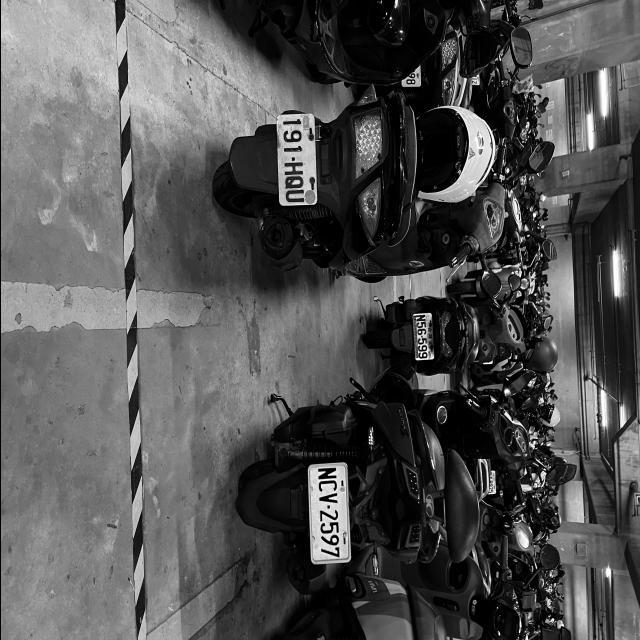-: (326, 504, 332, 510), (290, 156, 294, 163), (420, 336, 422, 338)
1: (282, 144, 302, 154), (282, 118, 300, 128)
2: (318, 510, 338, 522)
5: (318, 522, 338, 534), (415, 321, 425, 329), (416, 338, 426, 345)
6: (416, 328, 426, 336)
7: (320, 546, 340, 558)
8: (405, 79, 415, 85)
9: (282, 129, 300, 143), (319, 534, 338, 546), (417, 352, 427, 359), (417, 345, 427, 352)
C: (318, 479, 338, 494)
H: (284, 161, 304, 175)
N: (316, 468, 336, 480), (414, 314, 425, 323)
Q: (284, 176, 304, 190)
U: (284, 190, 305, 203)
V: (318, 492, 337, 504)
plate: (278, 114, 312, 206), (312, 467, 344, 561), (414, 313, 432, 360)
